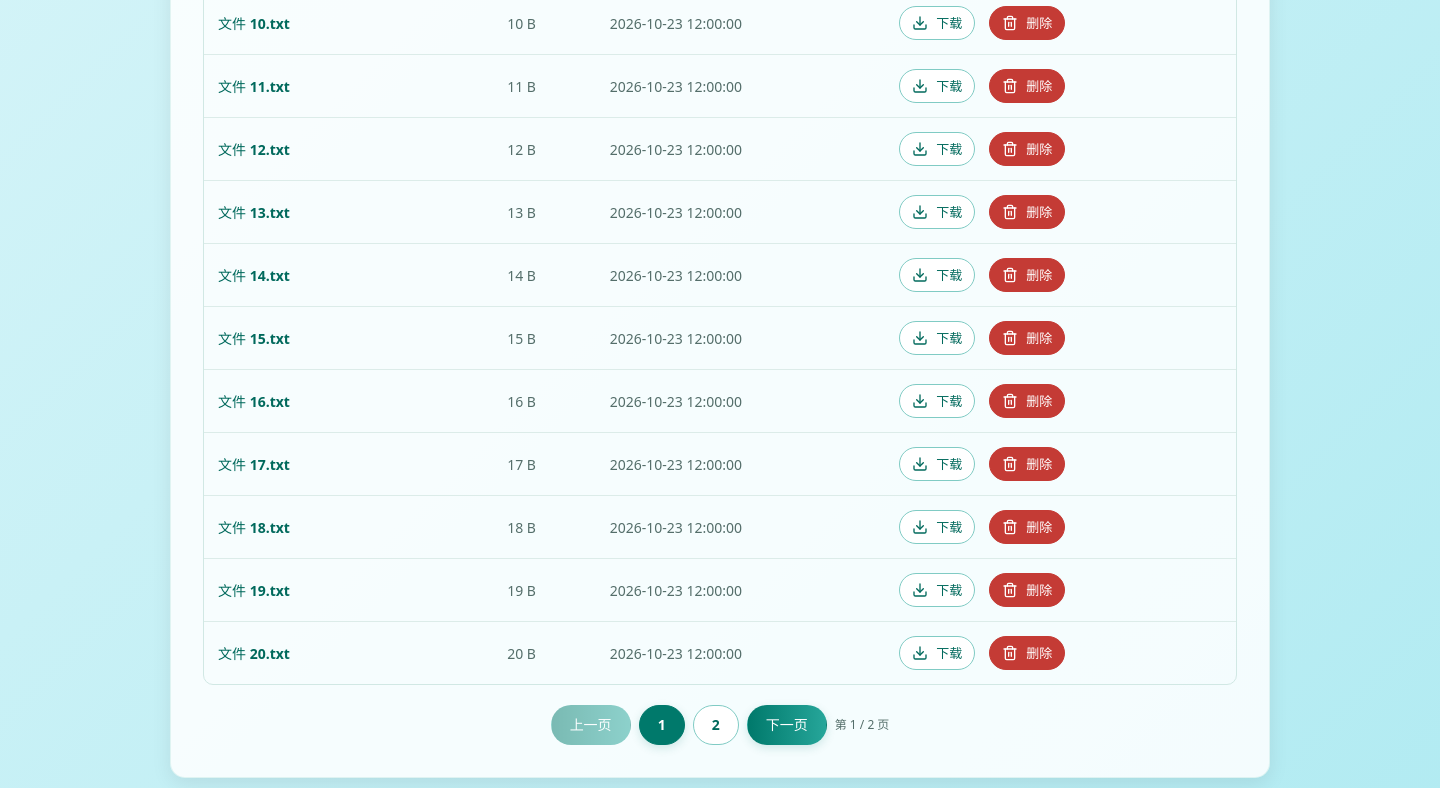
Test: requires confirmation, encodes download paths, and clamps the page after deletion
(page scrolled)
Step 1. Click the button "下一页" → click(787, 725), box top-left (747, 705), bottom-right (827, 745)
(page scrolled)
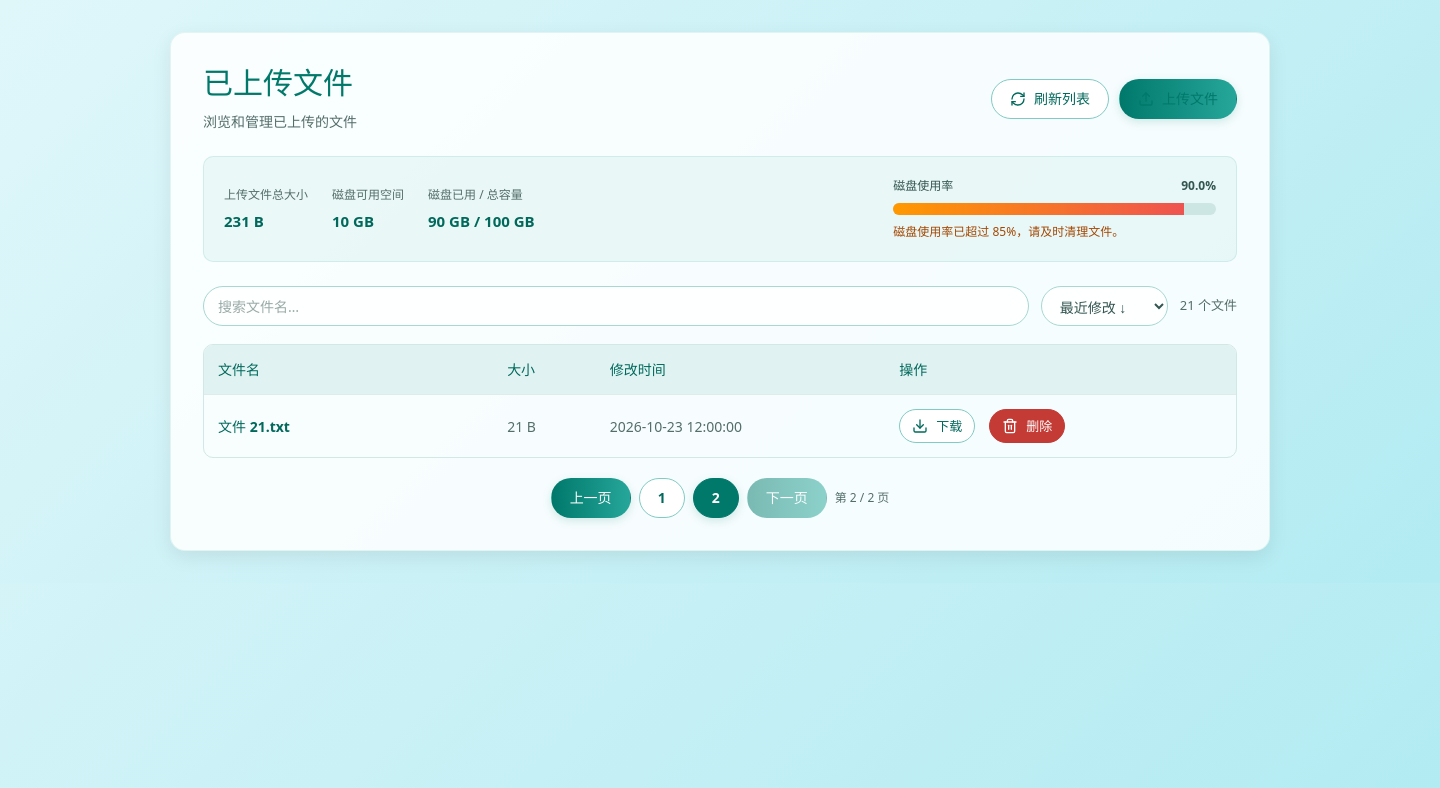
Step 2. Click the button with aria-label "删除 文件 21.txt" → click(1027, 426), box top-left (989, 409), bottom-right (1065, 443)
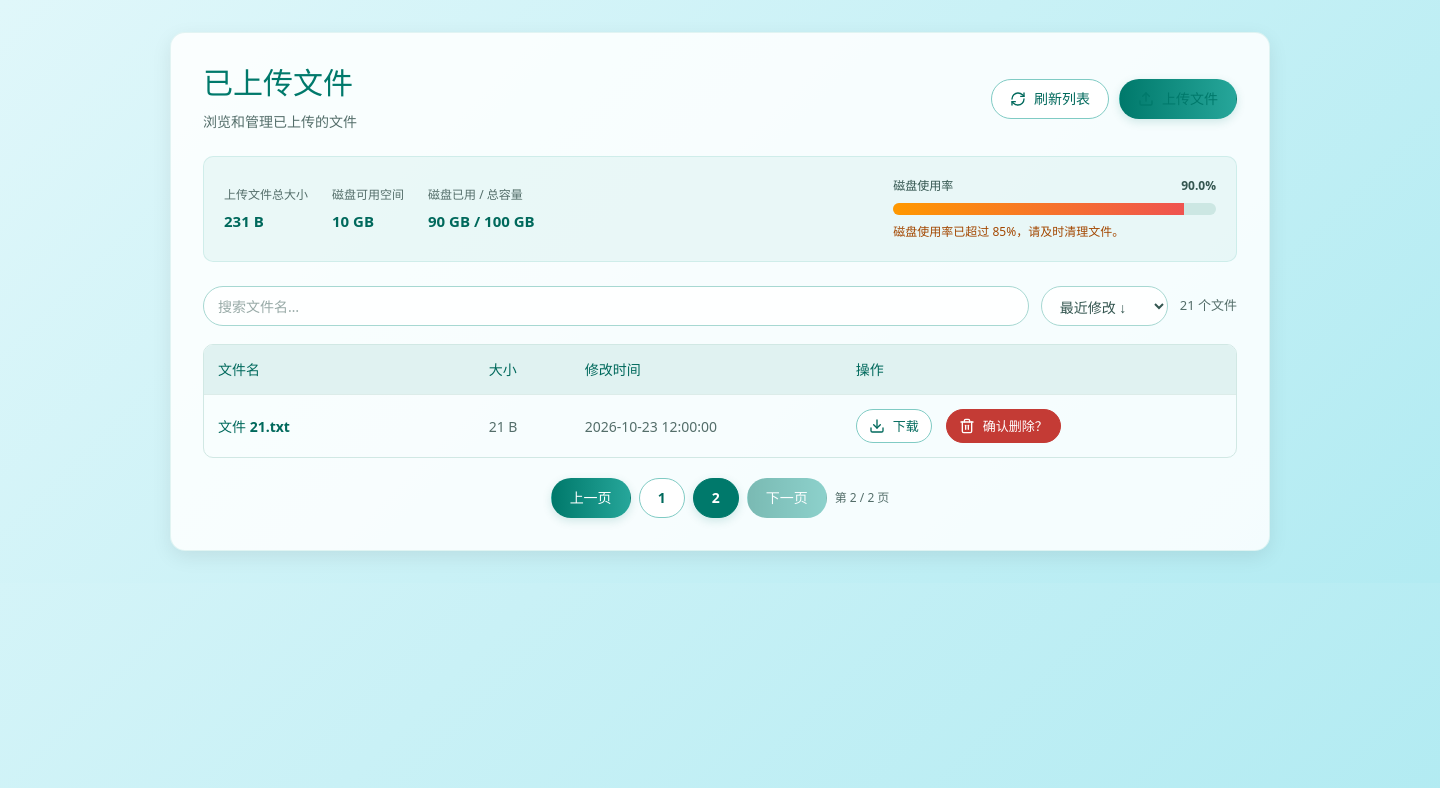
Step 3. Click the button with aria-label "确认删除 文件 21.txt" → click(1003, 426), box top-left (946, 409), bottom-right (1061, 443)
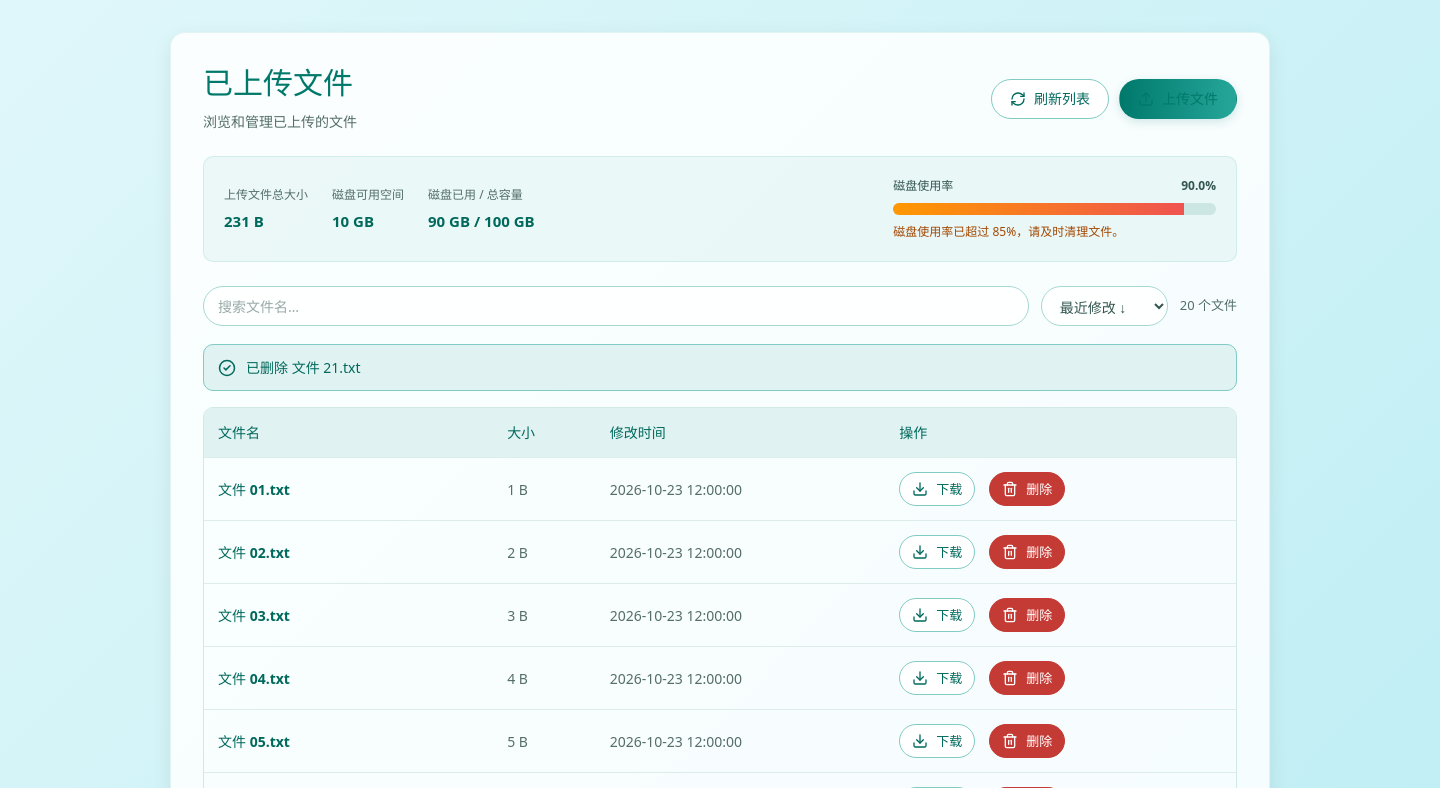
Result: the text "文件 01.txt" is shown at top-left (204, 458), bottom-right (493, 520)
Result: the navigation bar "文件列表分页" is gone
